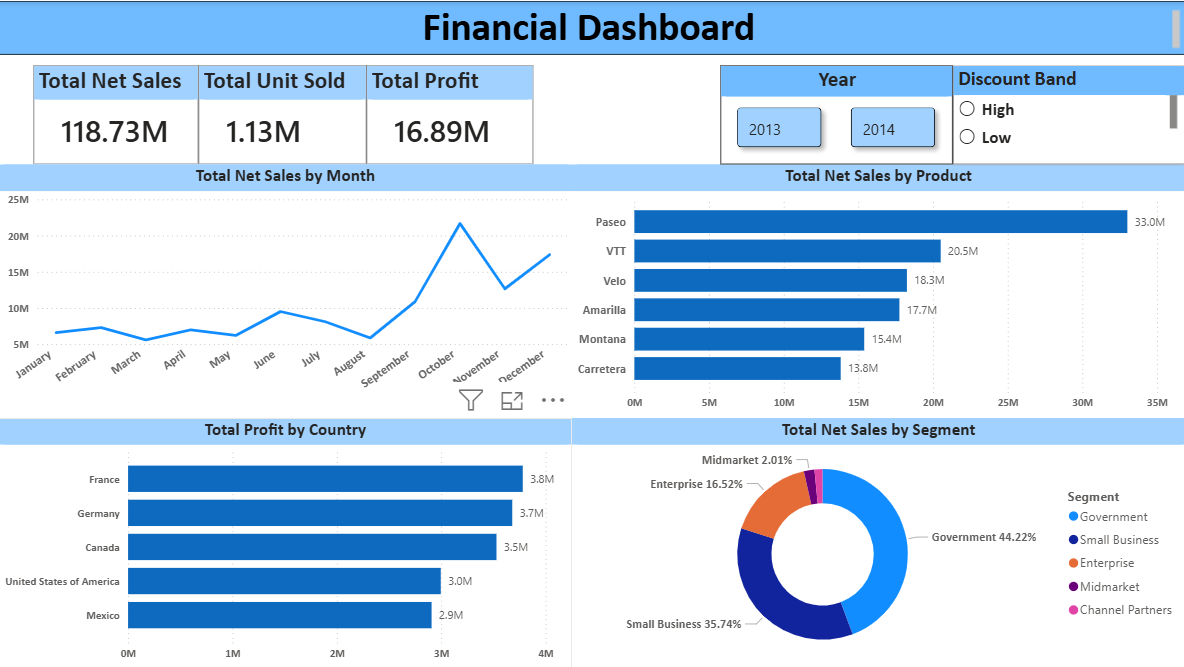

The dashboard page shown, as its layout file describes it:
{"tool":"powerbi","page":{"name":"Page 1","canvas":[1280,720],"ordinal":0},"visuals":[{"type":"cardVisual","title":"Total Net Sales","fields":{"Data":["Finanacial.Total Net Sales"]},"box":[37.2,69.6,178.1,106.9],"z":0},{"type":"cardVisual","title":"Total Profit","fields":{"Data":["Finanacial.Total Profit"]},"box":[396.7,69.6,179.7,106.9],"z":1000},{"type":"cardVisual","title":"Total Unit Sold","fields":{"Data":["Finanacial.Total Unit Sold"]},"box":[215.4,69.6,181.4,106.9],"z":2000},{"type":"textbox","box":[0,0,1280.8,58.3],"z":3000},{"type":"lineChart","title":"Total Net Sales by Month","fields":{"Category":["Date Table.Month Name"],"Y":["Finanacial.Total Net Sales"]},"box":[0,176.5,618.5,273.6],"z":4000},{"type":"clusteredBarChart","title":"Total Profit by Country","fields":{"Category":["Finanacial.Country"],"Y":["Sum(Finanacial.Profit)"]},"box":[0,450.1,618.5,270.4],"z":5000},{"type":"barChart","fields":{"Y":["Finanacial.Total Net Sales"],"Category":["Finanacial.Product"]},"box":[618.5,176.5,662.3,273.6],"z":6000},{"type":"donutChart","fields":{"Y":["Finanacial.Total Net Sales"],"Category":["Finanacial.Segment"]},"box":[618.5,450.1,662.3,270.4],"z":7000},{"type":"advancedSlicerVisual","fields":{"Values":["Date Table.Year"]},"box":[778.8,69.6,251,106.9],"z":8000},{"type":"listSlicer","fields":{"Values":["Finanacial.Discount Band"]},"box":[1029.8,69.6,251,106.9],"z":9000}]}

Visuals, with their boxes in screenshot pixels (x1, y1, x2, y2), scaled from the page's 1280x720 canvas onto the 1184x667 screenshot:
"Total Net Sales" cardVisual: <region>34, 64, 199, 164</region>
"Total Profit" cardVisual: <region>367, 64, 533, 164</region>
"Total Unit Sold" cardVisual: <region>199, 64, 367, 164</region>
textbox: <region>0, 0, 1183, 54</region>
"Total Net Sales by Month" lineChart: <region>0, 164, 572, 417</region>
"Total Profit by Country" clusteredBarChart: <region>0, 417, 572, 666</region>
barChart - Finanacial.Total Net Sales x Finanacial.Product: <region>572, 164, 1183, 417</region>
donutChart - Finanacial.Total Net Sales x Finanacial.Segment: <region>572, 417, 1183, 666</region>
advancedSlicerVisual - Date Table.Year: <region>720, 64, 953, 164</region>
listSlicer - Finanacial.Discount Band: <region>953, 64, 1183, 164</region>
